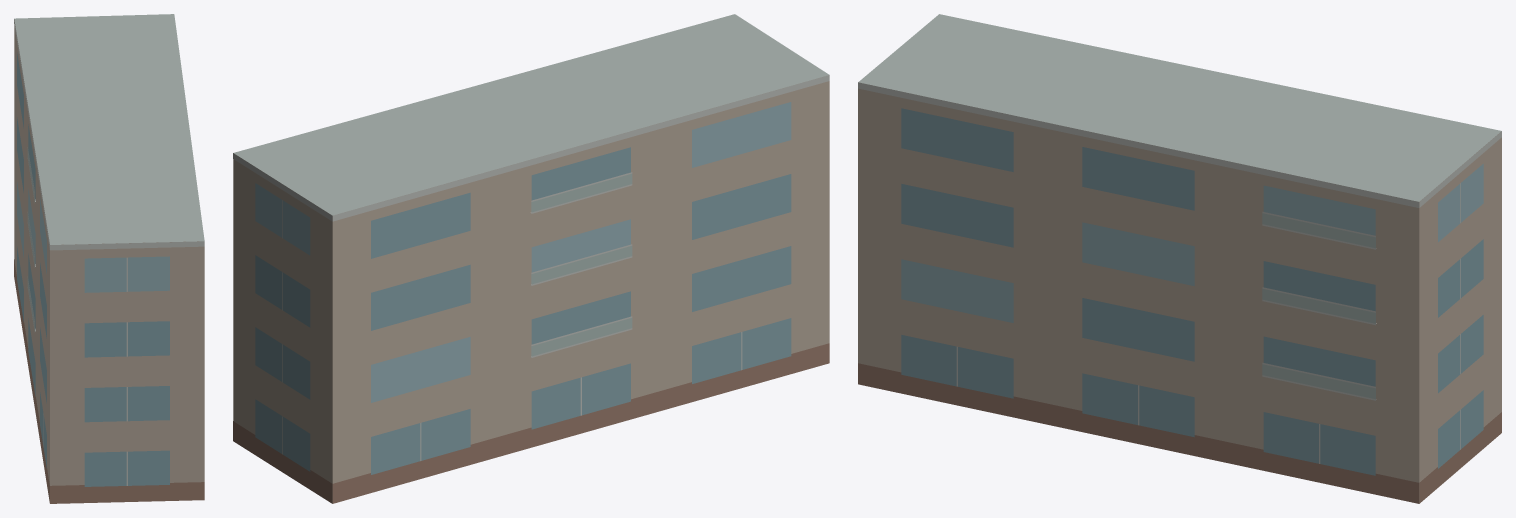
Rendered from survey-upis-32723709.glb.
The picture shows the model from 3 angles, left to right: view 1: azimuth 30°, elevation 25°; view 2: azimuth 150°, elevation 25°; view 3: azimuth 270°, elevation 25°; orthographic projection. The views are drawn at different scales.
Visible parts, largest first — view 1: survey-upis-32723709.tmp; view 2: survey-upis-32723709.tmp; view 3: survey-upis-32723709.tmp.
Part boxes in pixels (x1,y1,x2,y2): survey-upis-32723709.tmp: [14, 14, 204, 503]; survey-upis-32723709.tmp: [233, 14, 829, 503]; survey-upis-32723709.tmp: [858, 14, 1501, 503].
Bounding box in the file's own units: 15.62 × 11.7 × 22.61.
